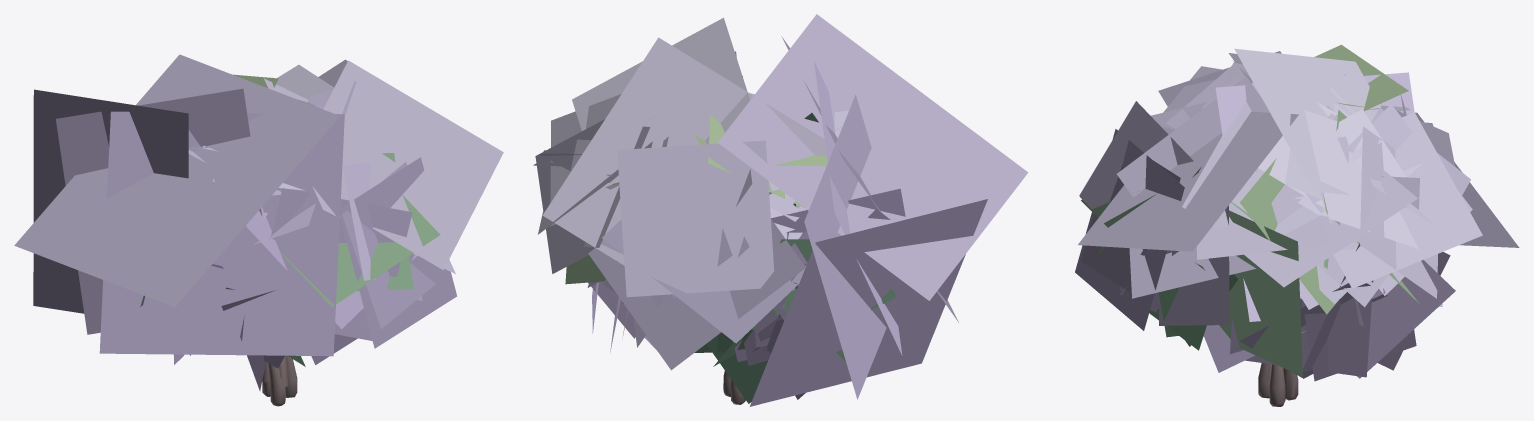
The model's file is lilac_tree_v3.glb.
3 views of the same model, side by side, from view 1: azimuth 30°, elevation 25°; view 2: azimuth 150°, elevation 25°; view 3: azimuth 270°, elevation 25° (orthographic). The views are drawn at different scales.
Parts seen in each view (by area): view 1: far, near; view 2: far, near; view 3: near, far.
Part boxes in pixels (<box>): far: <box>14,54,503,386</box>; near: <box>140,64,456,406</box>; far: <box>533,14,1028,406</box>; near: <box>535,94,896,404</box>; near: <box>1075,44,1482,406</box>; far: <box>1078,48,1519,381</box>.
Size of the model in its own units: 9.56 by 7.77 by 8.71.
